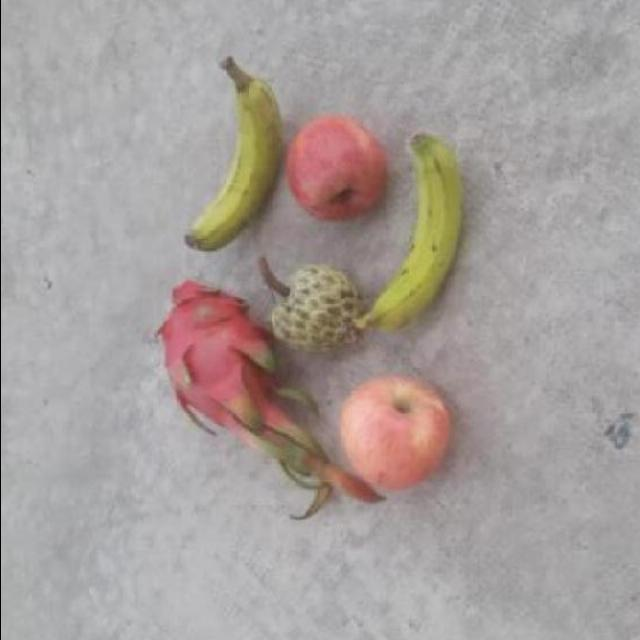apple: (336, 362, 461, 510), (280, 111, 388, 222)
banana: (360, 127, 466, 331), (179, 63, 279, 260)
dragon fruit: (144, 277, 272, 449)
sugar apple: (264, 260, 372, 362)
